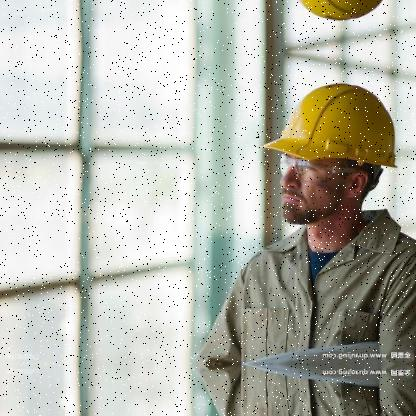helmet: (255, 55, 404, 249), (255, 0, 405, 48)
